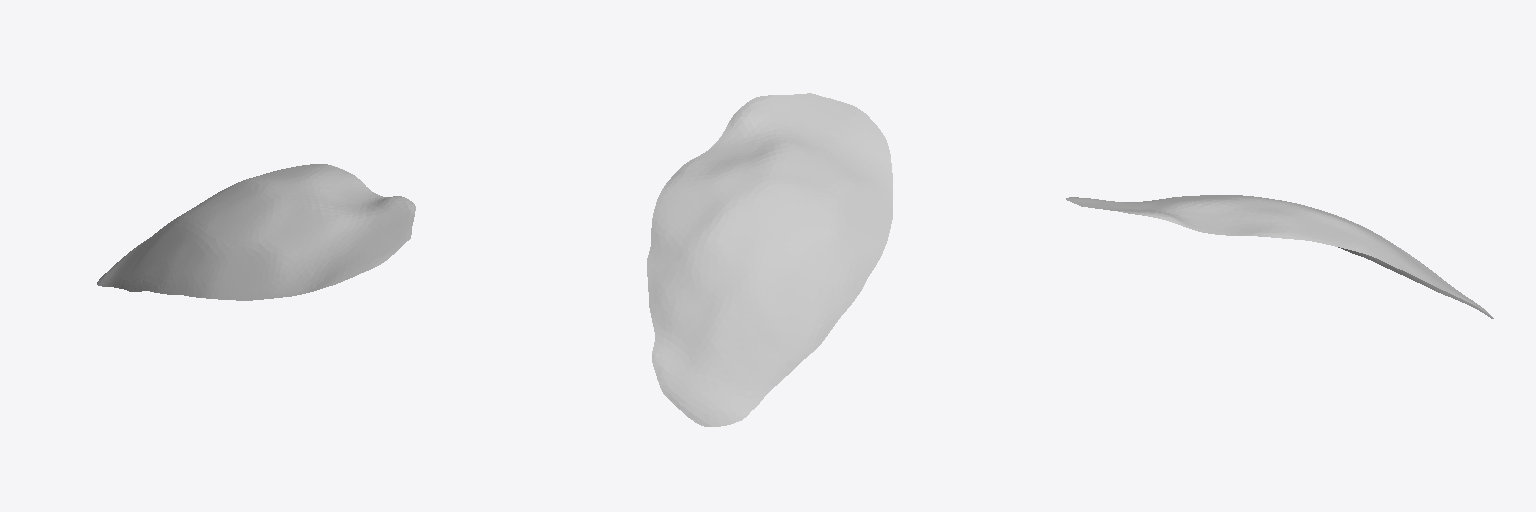
The model's file is Paciente3_fl_str.obj.
The picture shows the model from 3 angles: view 1: azimuth 30°, elevation 25°; view 2: azimuth 150°, elevation 25°; view 3: azimuth 270°, elevation 25°; orthographic projection.
Visible parts, largest first — view 1: Paciente_3_fl_str; view 2: Paciente_3_fl_str; view 3: Paciente_3_fl_str.
Boxes of the visible parts, x1,y1,x2,y2 form: Paciente_3_fl_str: [97, 164, 415, 300]; Paciente_3_fl_str: [647, 93, 892, 426]; Paciente_3_fl_str: [1066, 195, 1493, 318].
Bounding box in the file's own units: 12.5 × 10.91 × 25.29.